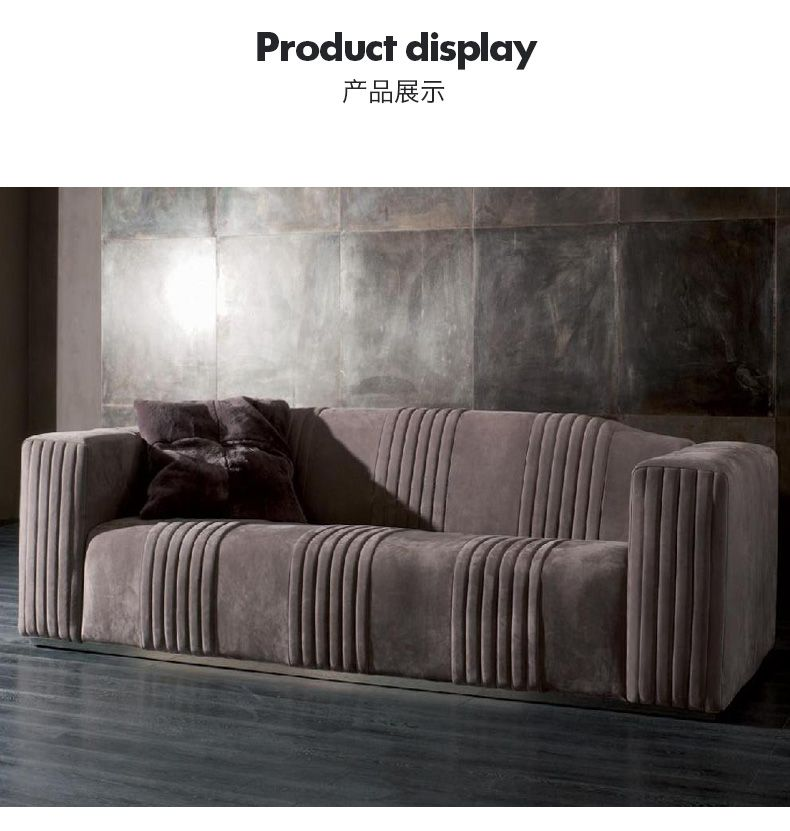3seatersofa: (18, 399, 776, 712)
backrest: (288, 407, 685, 540)
leftarmrest: (627, 442, 777, 711)
leg: (24, 637, 716, 718)
pillow: (135, 398, 304, 520)
rightarmrest: (20, 429, 143, 639)
seat: (81, 521, 625, 694)
